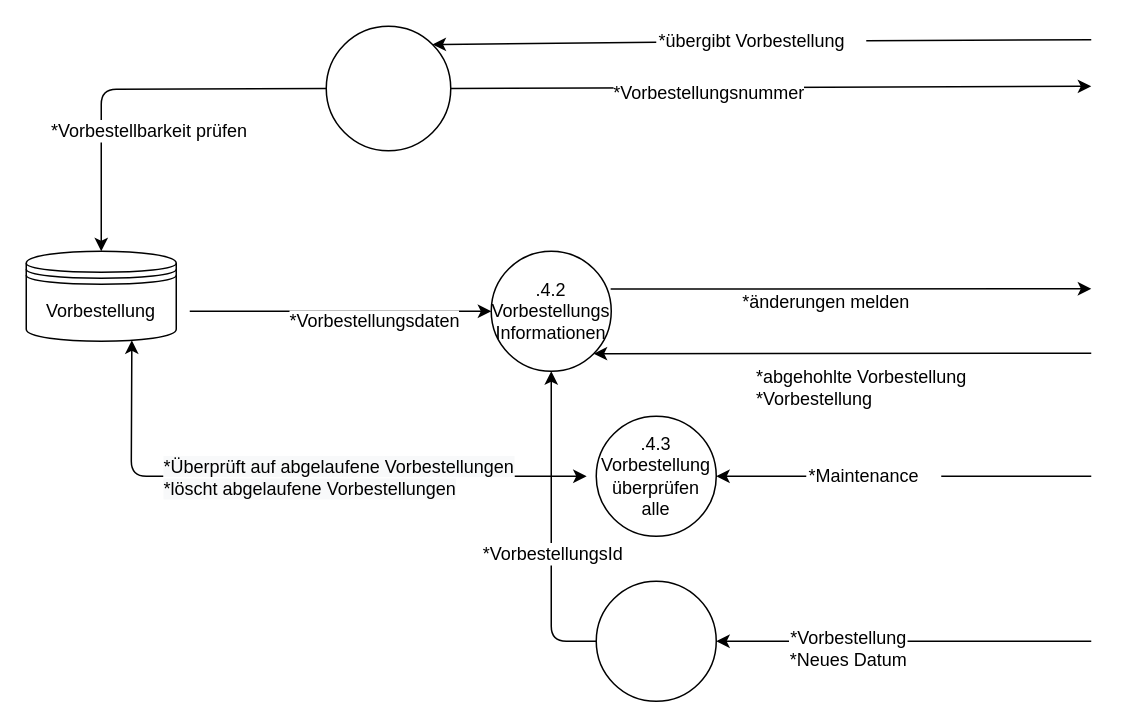
The diagram is 1130 pixels wide and 728 high, and some of its shapes have lost their labels. The shapes that lost their labels are listed below. From the top down, each one's centre as x and y in pixels, then its label:
point (388, 88): .4.1 Vorbestellung prüfen
point (655, 640): .4.4 Vorbestellung verlängern
